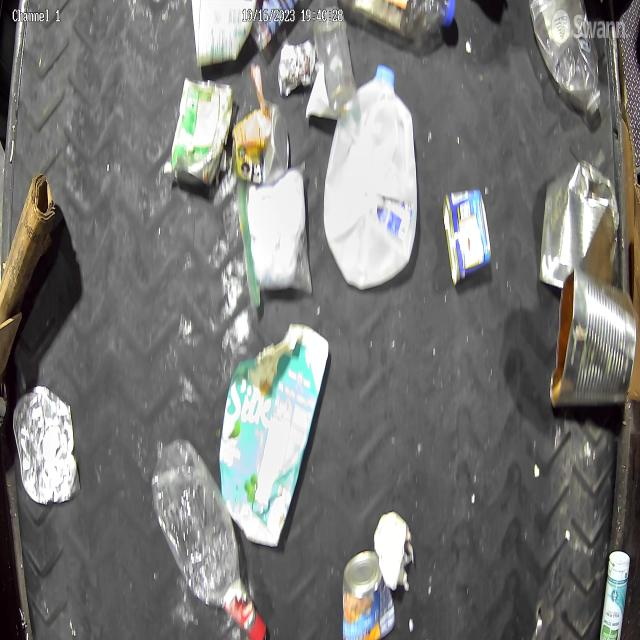can: (549, 264, 637, 412), (538, 157, 622, 290), (12, 384, 82, 506), (170, 75, 234, 191), (342, 548, 395, 640), (232, 101, 290, 185), (443, 188, 492, 285)
milk_jug: (324, 65, 419, 291)
plastic_bottle: (150, 434, 266, 640), (527, 0, 602, 120), (341, 0, 456, 43)
